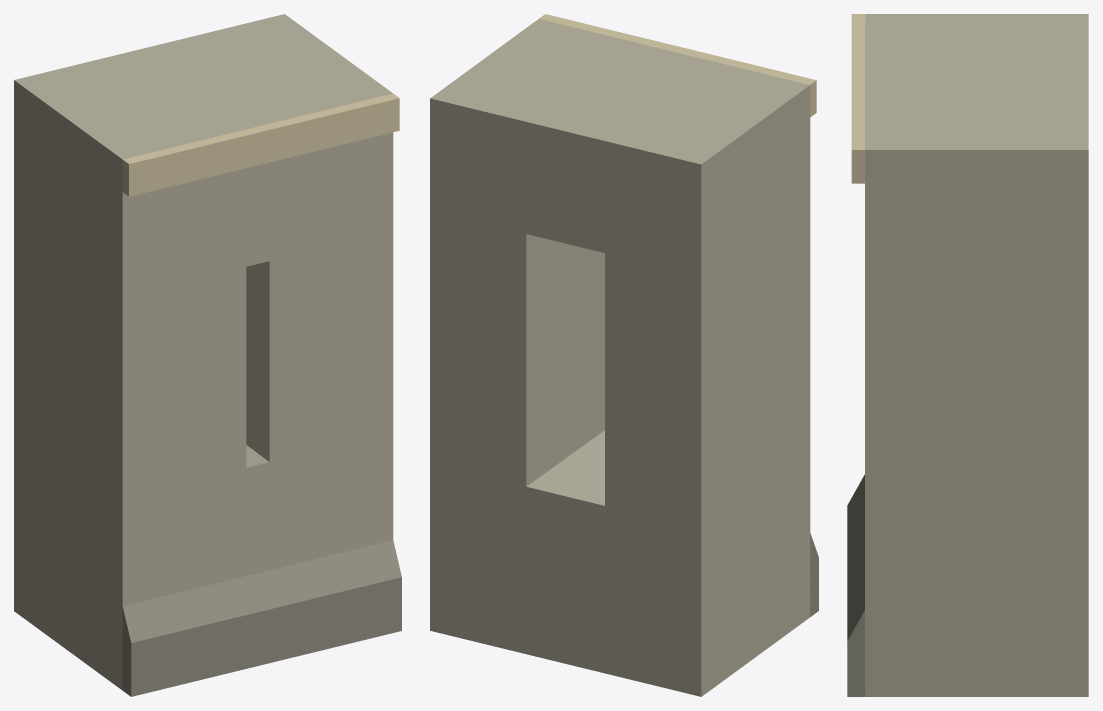
Rendered from loopholed_curtain.glb.
The picture shows the model from 3 angles, left to right: view 1: azimuth 30°, elevation 25°; view 2: azimuth 150°, elevation 25°; view 3: azimuth 270°, elevation 25°; orthographic projection. The views are drawn at different scales.
Parts seen in each view (by area): view 1: Loopholed curtain; view 2: Loopholed curtain; view 3: Loopholed curtain.
Part boxes in pixels (left/top/right/bottom): Loopholed curtain: left=14, top=14, right=401, bottom=696; Loopholed curtain: left=430, top=14, right=818, bottom=696; Loopholed curtain: left=847, top=14, right=1088, bottom=696.
Size of the model in its own units: 1 by 1.88 by 0.75.
